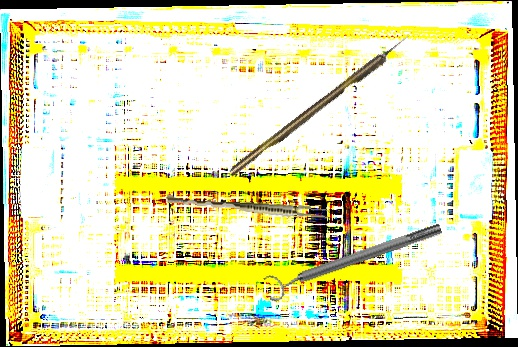Fixation Ring: (262, 215, 446, 304)
Hook Surgical: (226, 32, 415, 178)
Tissue Forceps: (165, 194, 329, 220)
